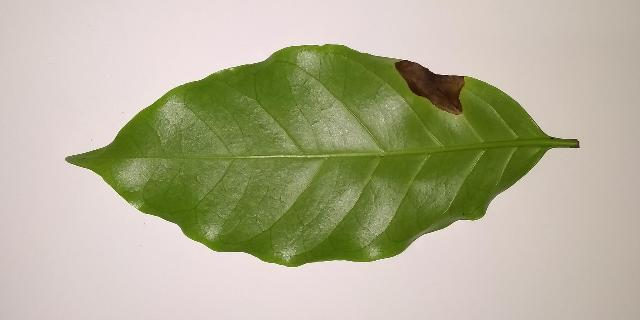rust: (395, 60, 464, 115)
